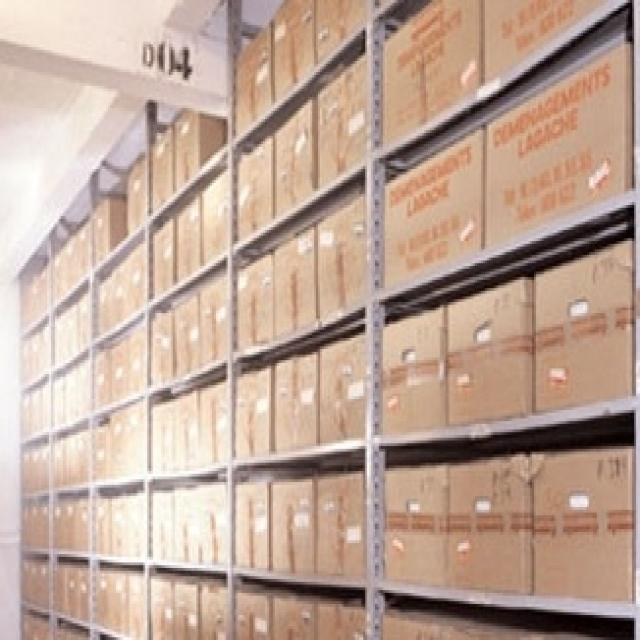box: (490, 68, 630, 216), (533, 458, 632, 595), (535, 273, 631, 404), (451, 463, 531, 587), (450, 301, 532, 414), (385, 176, 482, 255), (387, 472, 449, 579), (385, 324, 446, 425), (385, 35, 485, 93), (317, 206, 369, 300), (316, 479, 362, 573), (270, 483, 315, 569), (272, 238, 317, 323), (276, 359, 320, 445), (273, 110, 315, 195), (320, 349, 364, 429), (314, 95, 366, 161), (235, 270, 273, 341), (238, 485, 269, 571), (240, 377, 274, 454), (237, 151, 273, 223)
